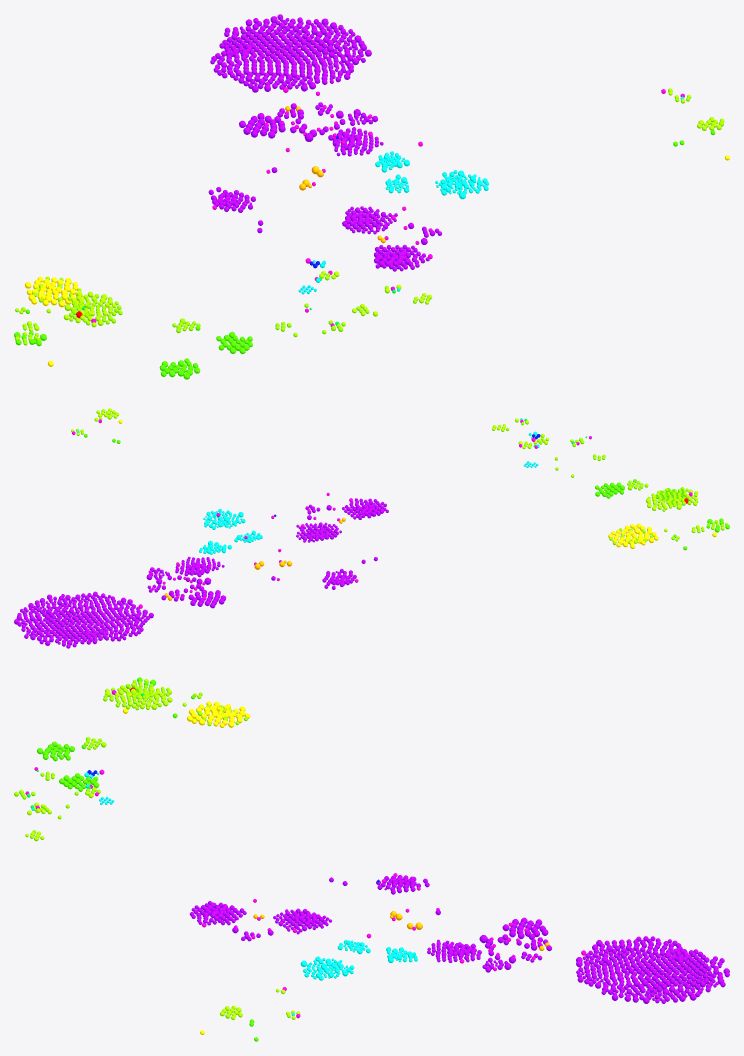
File: task-a8755a2ea-layout.gltf
3 renders of one model, top to bottom at view 1: azimuth 30°, elevation 25°; view 2: azimuth 150°, elevation 25°; view 3: azimuth 270°, elevation 25°, orthographic. The views are drawn at different scales.
Parts seen in each view (by area): view 1: normal_ivf_files, normal_no_ext_files, normal_c_files, normal_h_files, normal_s_files, normal_asm_files, normal_build_files; view 2: normal_ivf_files, normal_no_ext_files, normal_h_files, normal_c_files, normal_asm_files, normal_s_files, normal_build_files; view 3: normal_ivf_files, normal_no_ext_files, normal_c_files, normal_h_files, normal_s_files, normal_asm_files.
Boxes of the visible parts, x1,y1,x2,y2 form: normal_ivf_files: (208,14,441,271); normal_no_ext_files: (315,96,683,282); normal_c_files: (15,88,724,340); normal_h_files: (15,97,723,345); normal_s_files: (14,130,715,379); normal_asm_files: (25,155,729,366); normal_build_files: (91,87,684,326); normal_ivf_files: (14,498,388,648); normal_no_ext_files: (76,430,539,554); normal_h_files: (76,409,728,545); normal_c_files: (71,408,724,543); normal_asm_files: (118,419,716,548); normal_s_files: (84,434,729,550); normal_build_files: (72,419,692,608); normal_ivf_files: (189,875,729,1003); normal_no_ext_files: (84,772,417,1015); normal_c_files: (25,678,300,1020); normal_h_files: (14,680,294,1018); normal_s_files: (37,677,258,1041); normal_asm_files: (122,701,250,1034).
Bounding box in the file's own units: 440 × 47.72 × 389.
